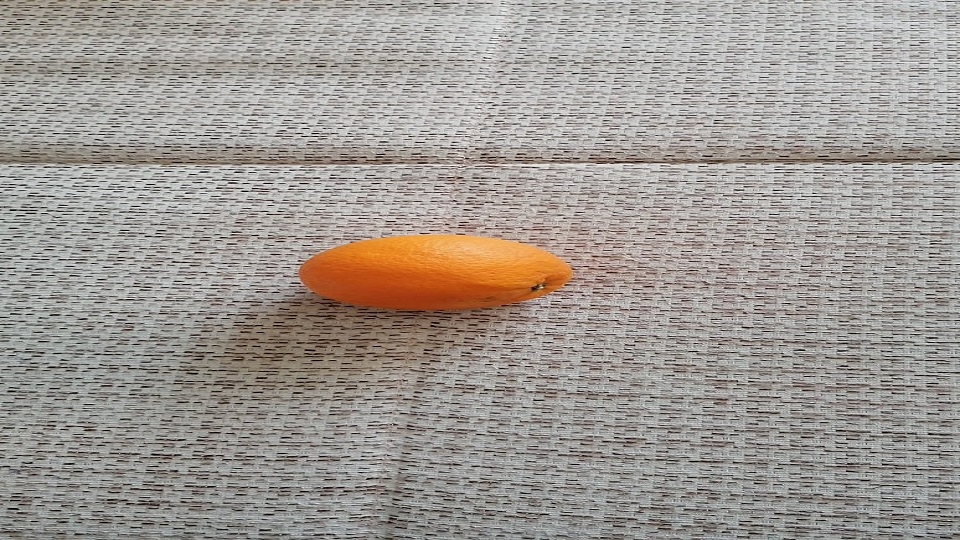portakal: (298, 233, 575, 312)
